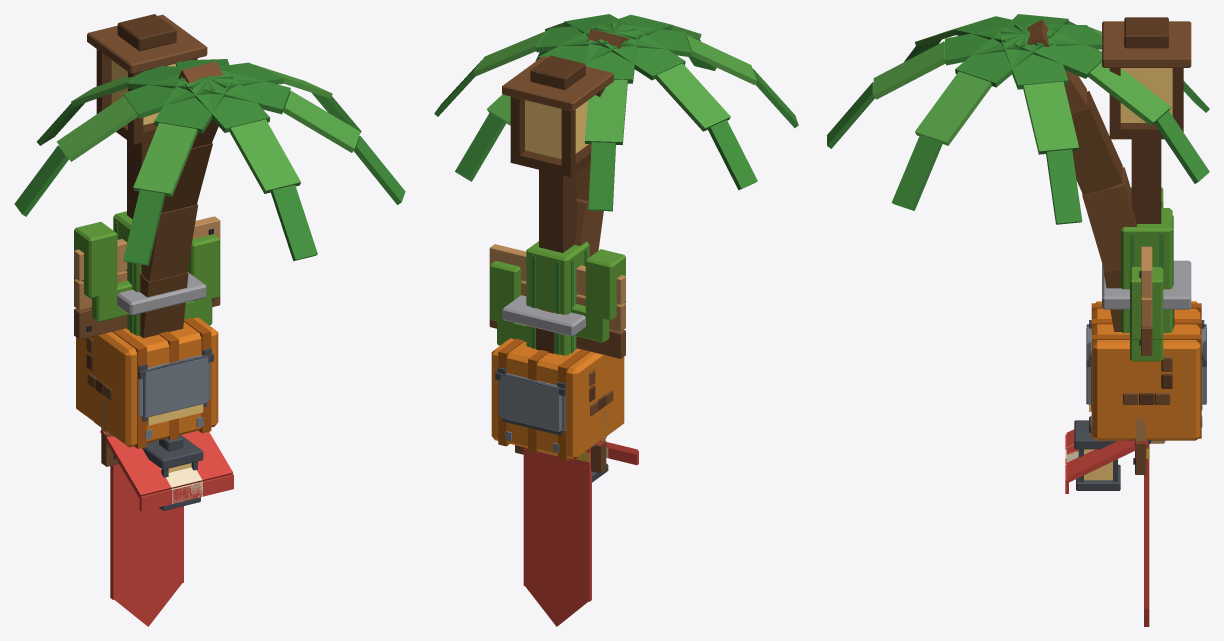
The model's file is Decor.fbx.
The picture shows the model from 3 angles, left to right: view 1: azimuth 30°, elevation 25°; view 2: azimuth 150°, elevation 25°; view 3: azimuth 270°, elevation 25°; orthographic projection. The views are drawn at different scales.
Visible parts, largest first — view 1: Decor_PalmTree__Fronds, Decor_JackOLantern, Decor_Banner__Tint, Decor_PalmTree, Decor_LampPost, Decor_Awning, Decor_Minecart, Decor_Cactus2, Decor_SignPost, Decor_Cactus1, Decor_WallLantern, Decor_StoneLantern (+2 smaller); view 2: Decor_PalmTree__Fronds, Decor_Banner__Tint, Decor_LampPost, Decor_JackOLantern, Decor_Cactus0, Decor_Minecart, Decor_SignPost, Decor_Cactus2, Decor_LampPost__Glow, Decor_Cactus1, Decor_PalmTree, Decor_StoneLantern (+2 smaller); view 3: Decor_PalmTree__Fronds, Decor_JackOLantern, Decor_LampPost, Decor_PalmTree, Decor_Cactus0, Decor_Cactus1, Decor_StoneLantern, Decor_Awning, Decor_WallLantern, Decor_SignPost, Decor_LampPost__Glow, Decor_Minecart (+3 smaller).
Boxes of the visible parts, x1,y1,x2,y2 form: Decor_PalmTree__Fronds: [14, 59, 405, 265]; Decor_JackOLantern: [76, 317, 218, 448]; Decor_Banner__Tint: [110, 464, 183, 626]; Decor_PalmTree: [137, 61, 223, 338]; Decor_LampPost: [87, 14, 207, 219]; Decor_Awning: [100, 429, 233, 511]; Decor_Minecart: [138, 348, 213, 421]; Decor_Cactus2: [74, 221, 131, 322]; Decor_SignPost: [74, 216, 220, 339]; Decor_Cactus1: [184, 234, 220, 325]; Decor_WallLantern: [142, 435, 203, 510]; Decor_StoneLantern: [117, 272, 206, 315]; Decor_PalmTree__Fronds: [434, 14, 798, 211]; Decor_Banner__Tint: [523, 447, 591, 626]; Decor_LampPost: [502, 55, 613, 252]; Decor_JackOLantern: [491, 338, 624, 460]; Decor_Cactus0: [526, 241, 589, 355]; Decor_Minecart: [495, 367, 566, 435]; Decor_SignPost: [489, 244, 625, 358]; Decor_Cactus2: [572, 249, 625, 342]; Decor_LampPost__Glow: [525, 100, 588, 158]; Decor_Cactus1: [489, 261, 526, 345]; Decor_PalmTree: [574, 29, 628, 256]; Decor_StoneLantern: [502, 295, 585, 336]; Decor_PalmTree__Fronds: [827, 14, 1209, 224]; Decor_JackOLantern: [1091, 301, 1201, 440]; Decor_LampPost: [1102, 17, 1191, 223]; Decor_PalmTree: [1027, 19, 1136, 331]; Decor_Cactus0: [1120, 208, 1173, 333]; Decor_Cactus1: [1130, 267, 1163, 361]; Decor_StoneLantern: [1102, 260, 1191, 309]; Decor_Awning: [1065, 429, 1147, 493]; Decor_WallLantern: [1074, 416, 1120, 490]; Decor_SignPost: [1139, 246, 1174, 355]; Decor_LampPost__Glow: [1120, 68, 1172, 122]; Decor_Minecart: [1086, 320, 1206, 410].
Bounding box in the file's own units: 10.58 × 17.86 × 10.32.
Materials: 1 (1 with a texture image).
